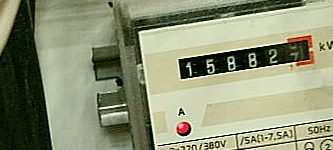1: (180, 58, 192, 75)
2: (263, 44, 276, 62)
5: (201, 54, 213, 72)
7: (286, 48, 297, 60)
8: (243, 48, 255, 67), (222, 52, 234, 70)
screen: (167, 27, 319, 88)
